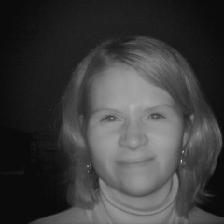happy: (54, 39, 216, 191)
